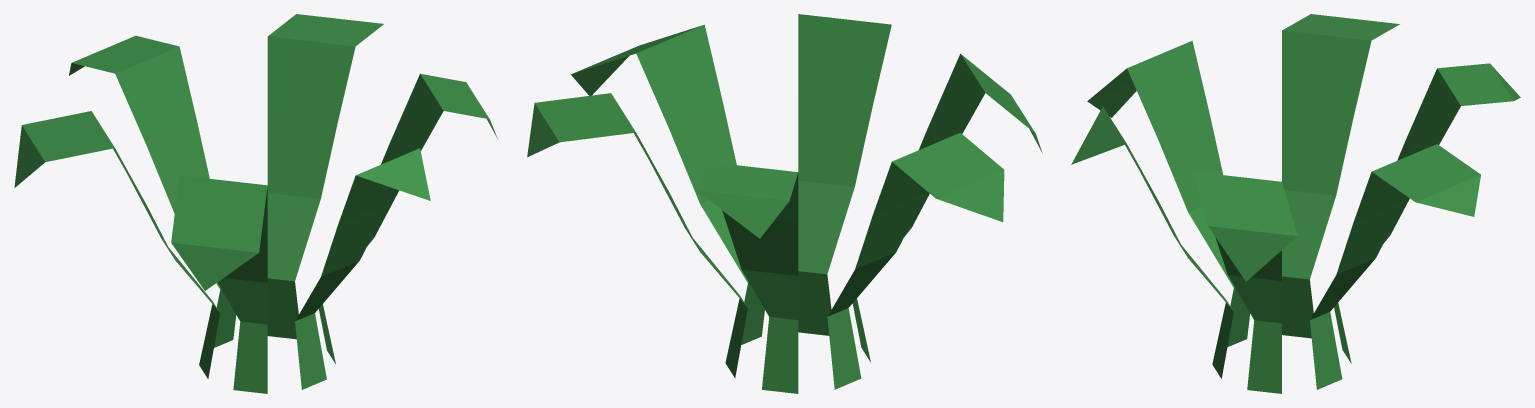
The model's file is grass_bush.glb.
The picture shows the model from 3 angles, left to right: view 1: azimuth 30°, elevation 25°; view 2: azimuth 150°, elevation 25°; view 3: azimuth 270°, elevation 25°; orthographic projection. The views are drawn at different scales.
Parts seen in each view (by area): view 1: GrassBush; view 2: GrassBush; view 3: GrassBush.
Boxes of the visible parts, x1=… form: GrassBush: x1=14, y1=14, x2=497, y2=393; GrassBush: x1=527, y1=14, x2=1042, y2=393; GrassBush: x1=1071, y1=14, x2=1520, y2=393.
Size of the model in its own units: 3.59 by 2 by 3.16.
